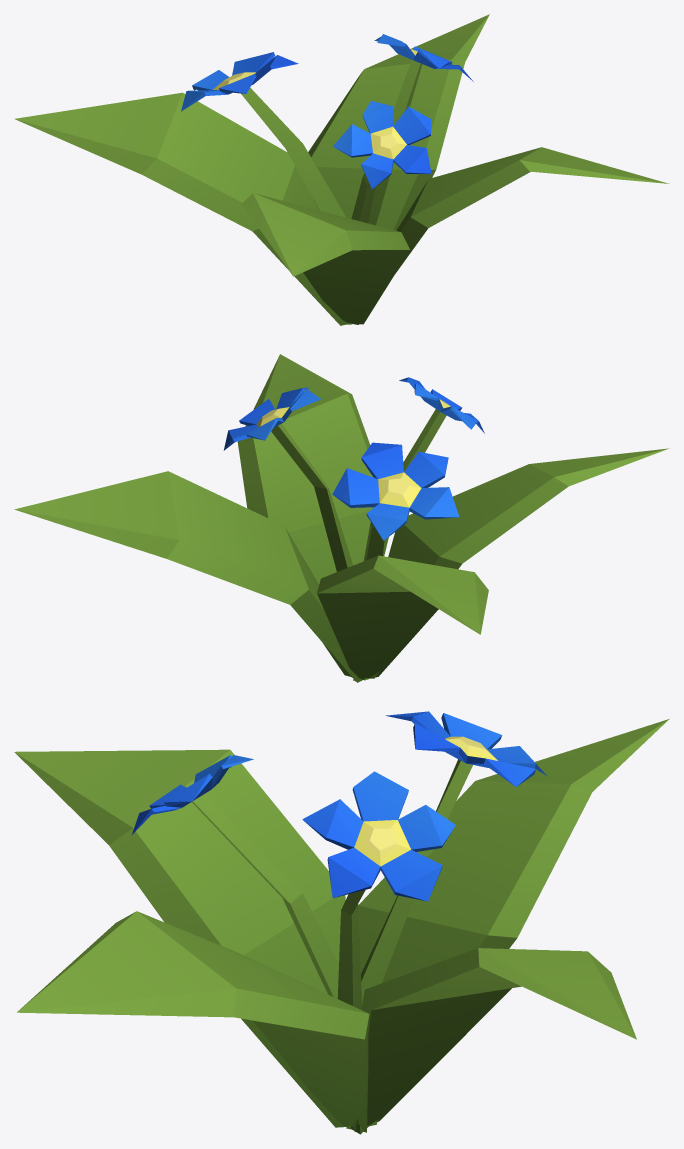
The model's file is LowPoly_TREE_F.glb.
The picture shows the model from 3 angles, top to bottom: view 1: azimuth 30°, elevation 25°; view 2: azimuth 150°, elevation 25°; view 3: azimuth 270°, elevation 25°; orthographic projection. The views are drawn at different scales.
Visible parts, largest first — view 1: Flower_bush_blue; view 2: Flower_bush_blue; view 3: Flower_bush_blue.
Boxes of the visible parts, x1,y1,x2,y2 form: Flower_bush_blue: (15, 14, 668, 325); Flower_bush_blue: (14, 354, 669, 682); Flower_bush_blue: (14, 711, 669, 1134).
Bounding box in the file's own units: 1.15 × 0.6264 × 0.9926.
1 material, 1 textured.
